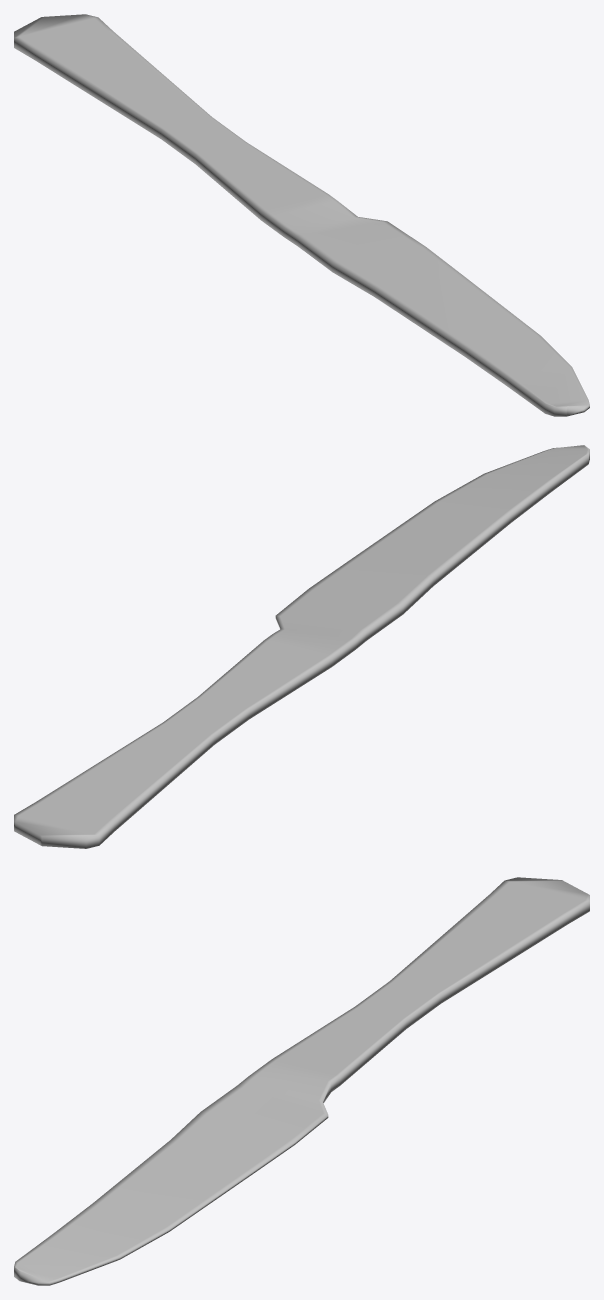
The model's file is Knife.fbx.
3 renders of one model, top to bottom at view 1: azimuth 30°, elevation 25°; view 2: azimuth 150°, elevation 25°; view 3: azimuth 330°, elevation 25°, orthographic.
Parts seen in each view (by area): view 1: Knife; view 2: Knife; view 3: Knife.
Part boxes in pixels (x1,y1,x2,y2): Knife: [14, 14, 589, 416]; Knife: [14, 445, 589, 848]; Knife: [14, 877, 589, 1285].
Size of the model in its own units: 0.00937 by 0.000868 by 0.0841.
Materials: 1 (1 with a texture image).
